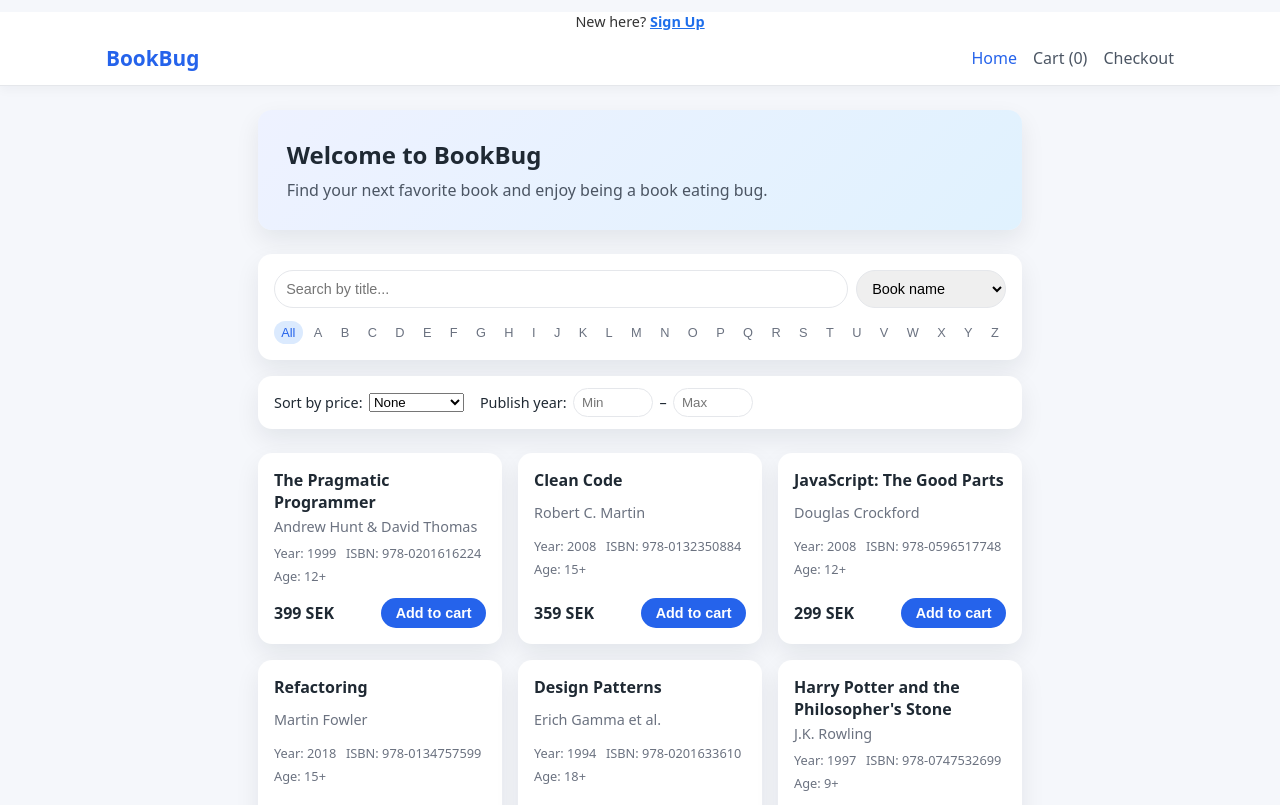
it: BookBug Registration Flow › Navigates to Step 1 from the homepage
The width and height of the screenshot is (1280, 805).
Click the link "Sign Up": [678, 22] box 650,12 -> 705,31
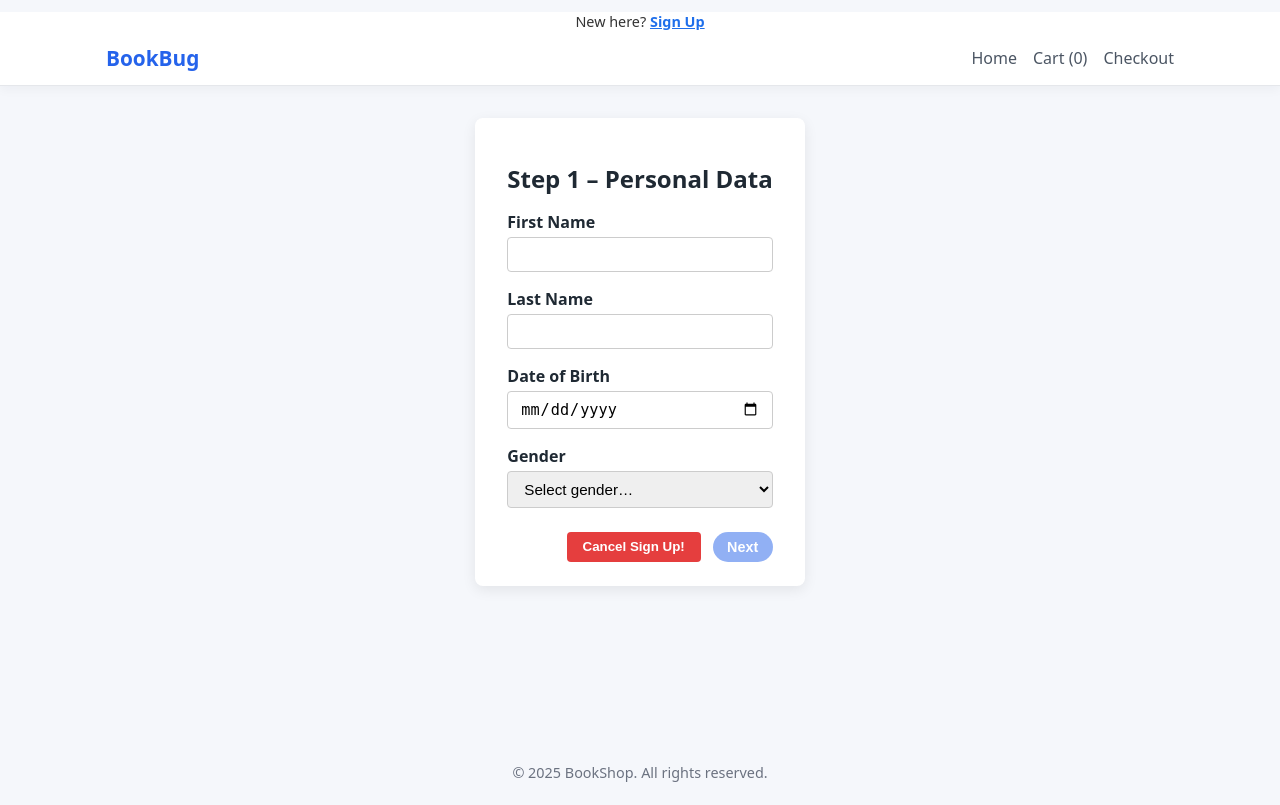
Expected: the heading "Step 1 – Personal Data" is shown, 507,162 -> 773,194
